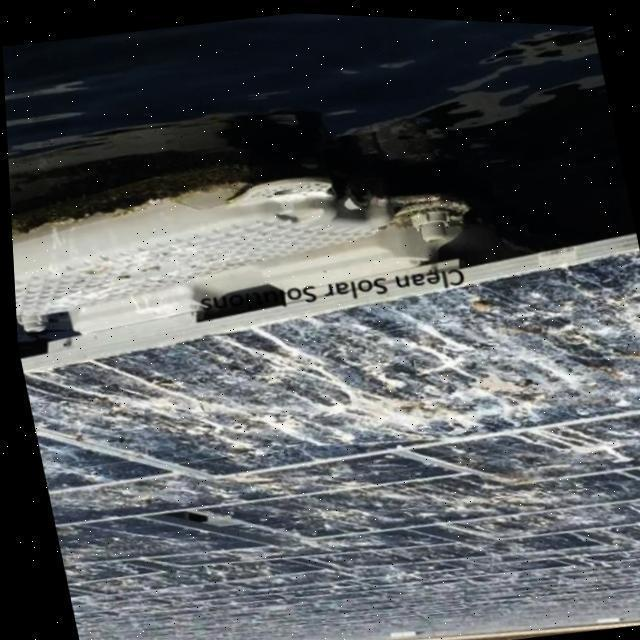Anomaly Solar Panel: (13, 242, 640, 640)
Surface Contaminant: (20, 249, 640, 640)
